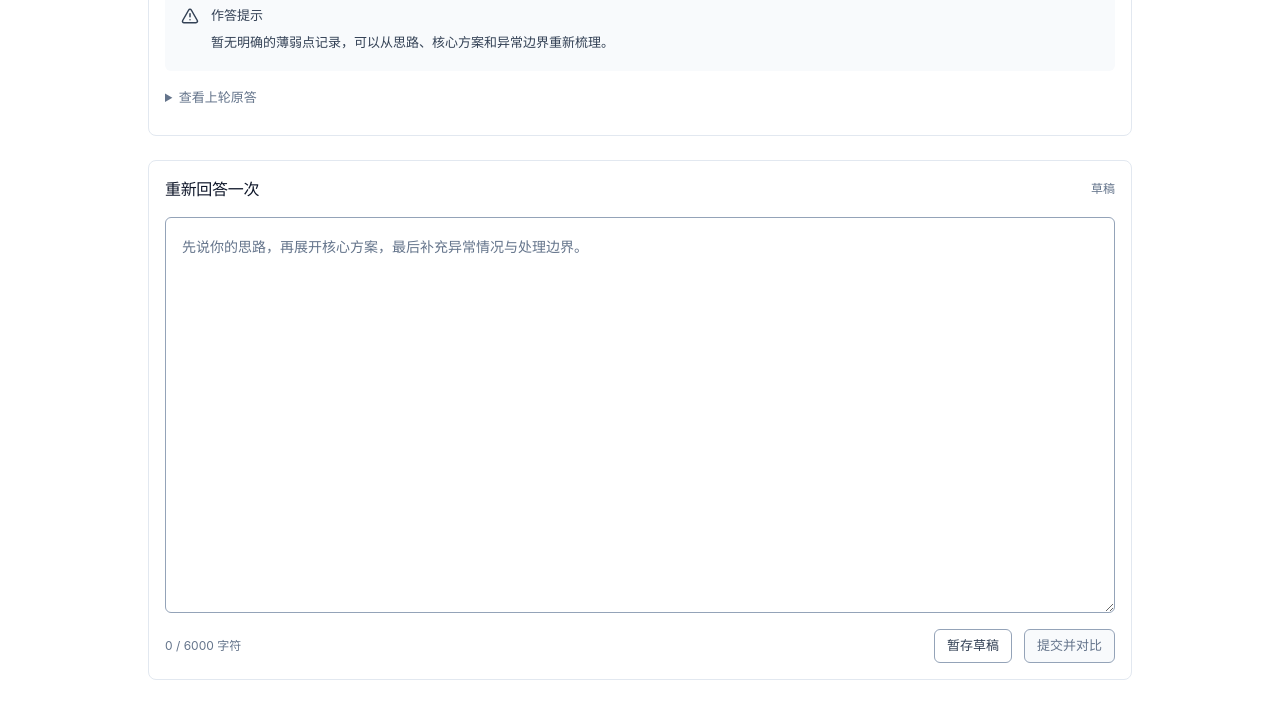
READY 后自动以原答与本次回答配对重评，直接呈现结果及两个出口
(page scrolled)
In the text box with placeholder "先说你的思路，再展开核心方案，最后补充异常情况与处理边界。": (640, 415) [165,217,1115,613], type "本次完整回答"
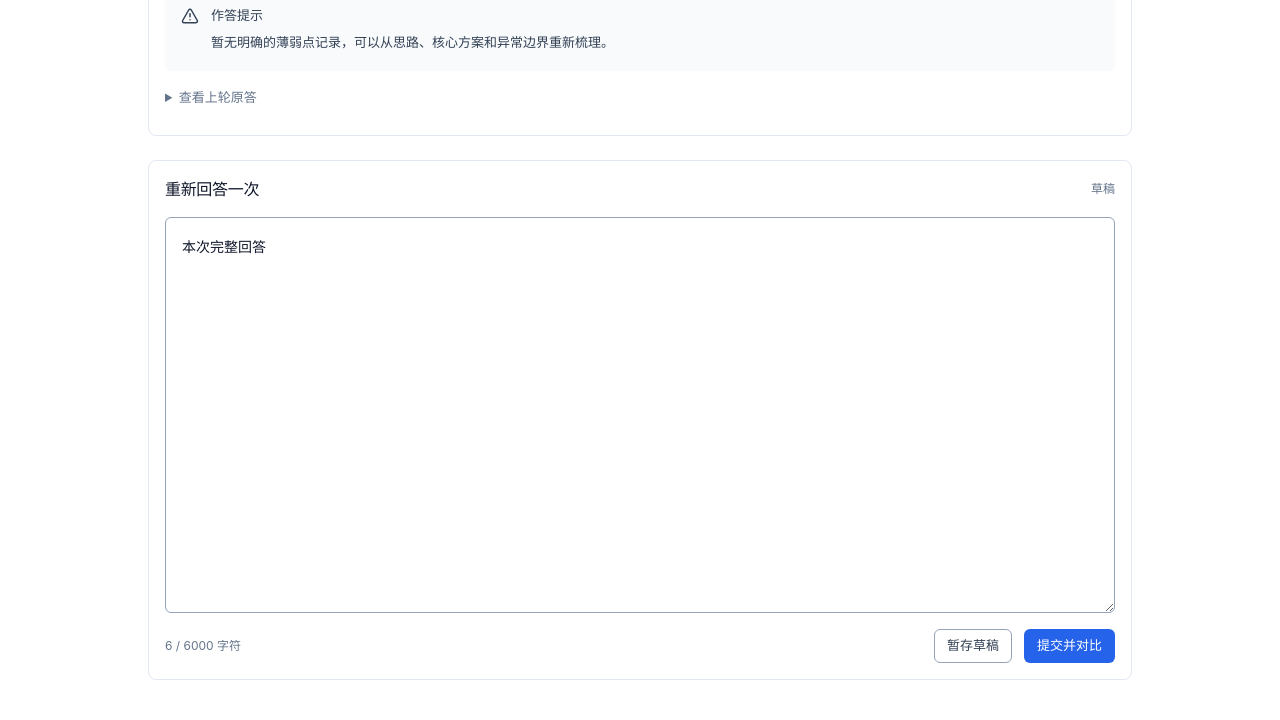
Click the button "提交并对比": click(1070, 646) [1024,629,1115,663]
(page scrolled)
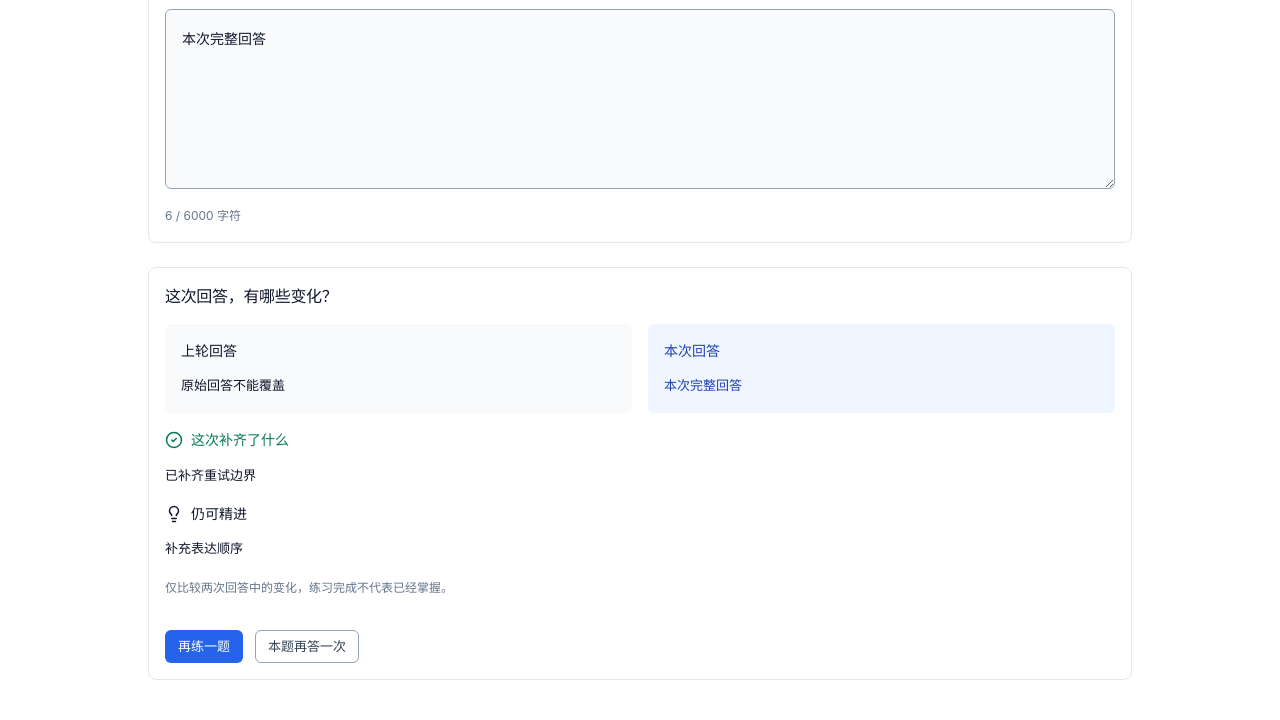
Now the text "已补齐重试边界" is shown, box [165,467,256,483]
Now the button "本题再答一次" is shown, box [255,630,359,663]
Now the link to "/review" is shown, box [165,630,243,663]
